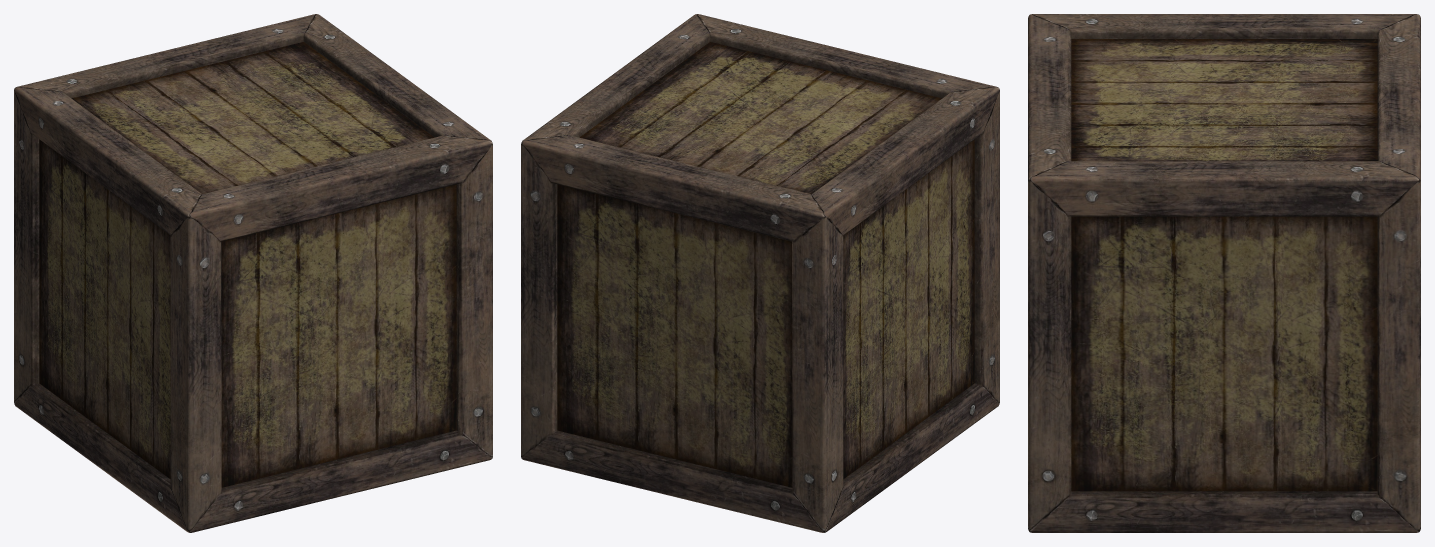
Rendered from crate.gltf.
3 renders of one model, left to right at view 1: azimuth 30°, elevation 25°; view 2: azimuth 150°, elevation 25°; view 3: azimuth 270°, elevation 25°, orthographic. The views are drawn at different scales.
Visible parts, largest first — view 1: Crate_Crate_0; view 2: Crate_Crate_0; view 3: Crate_Crate_0.
Part boxes in pixels (x1,y1,x2,y2): Crate_Crate_0: (14,14,492,532); Crate_Crate_0: (521,14,999,532); Crate_Crate_0: (1028,14,1420,532).
Size of the model in its own units: 0.2402 by 0.2402 by 0.2402.
1 material, 1 textured.
